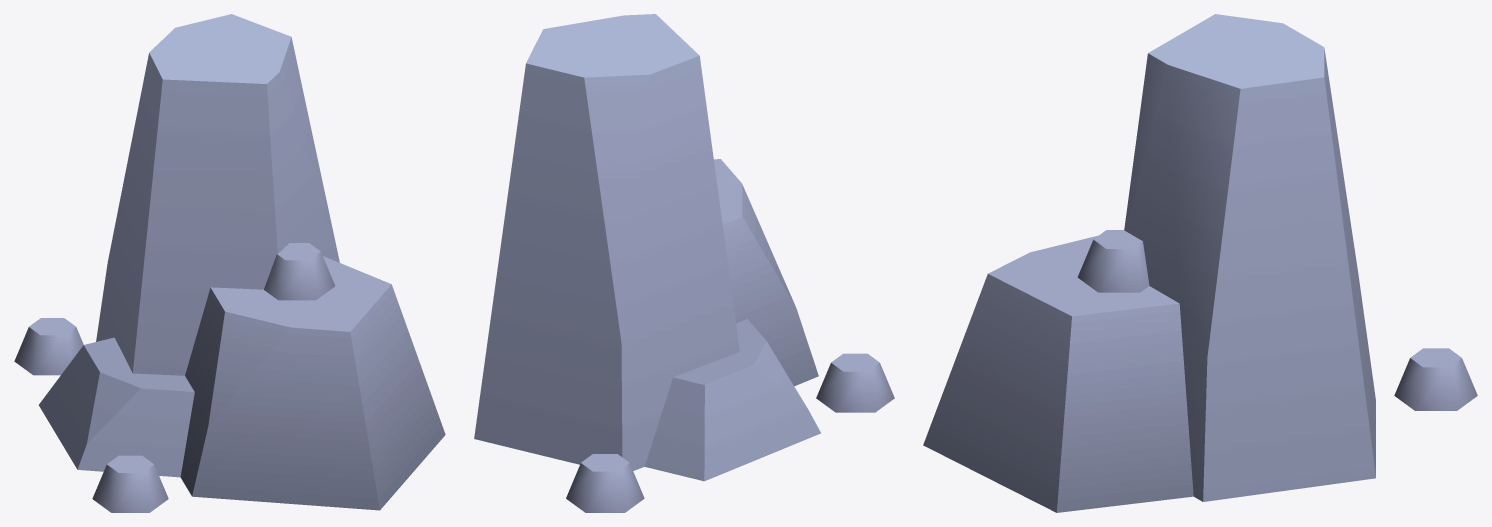
File: rock-small.glb
The picture shows the model from 3 angles, left to right: view 1: azimuth 30°, elevation 25°; view 2: azimuth 150°, elevation 25°; view 3: azimuth 270°, elevation 25°; orthographic projection. The views are drawn at different scales.
Parts seen in each view (by area): view 1: rock-small; view 2: rock-small; view 3: rock-small.
Part boxes in pixels (x1,y1,x2,y2): rock-small: (14, 14, 445, 512); rock-small: (474, 14, 894, 512); rock-small: (923, 14, 1477, 512).
Bounding box in the file's own units: 0.9984 × 1.02 × 1.33.
1 material, 1 textured.
